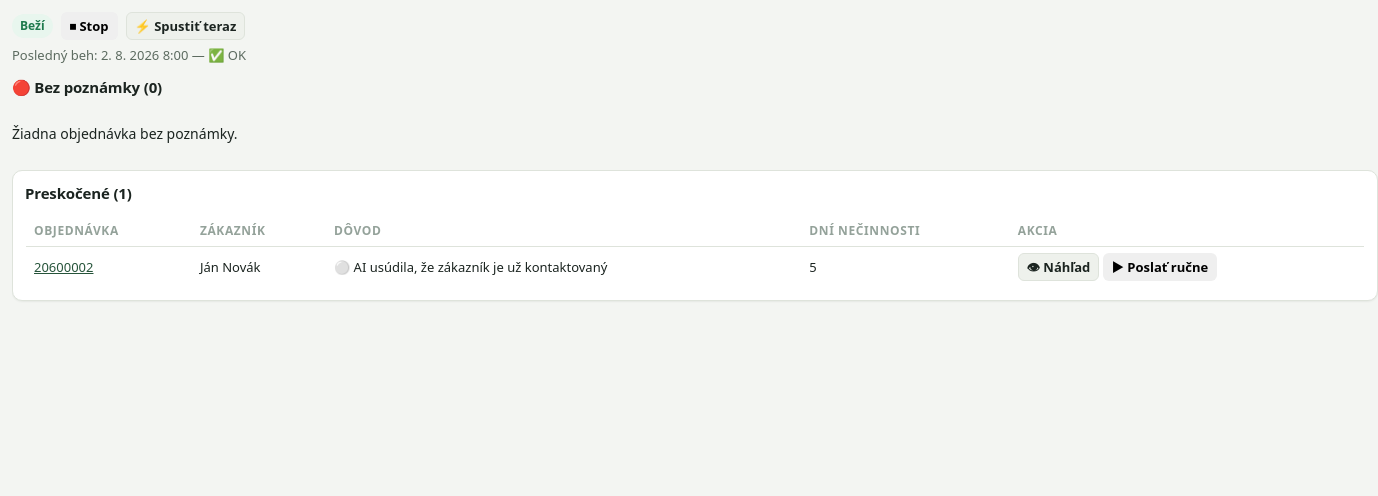
Scenario: preskočený riadok (AI kontaktovaný) má náhľad a klik zobrazí presne to, čo by odišlo
Click the button "👁 Náhľad": (1059, 267) [1018,253,1099,281]
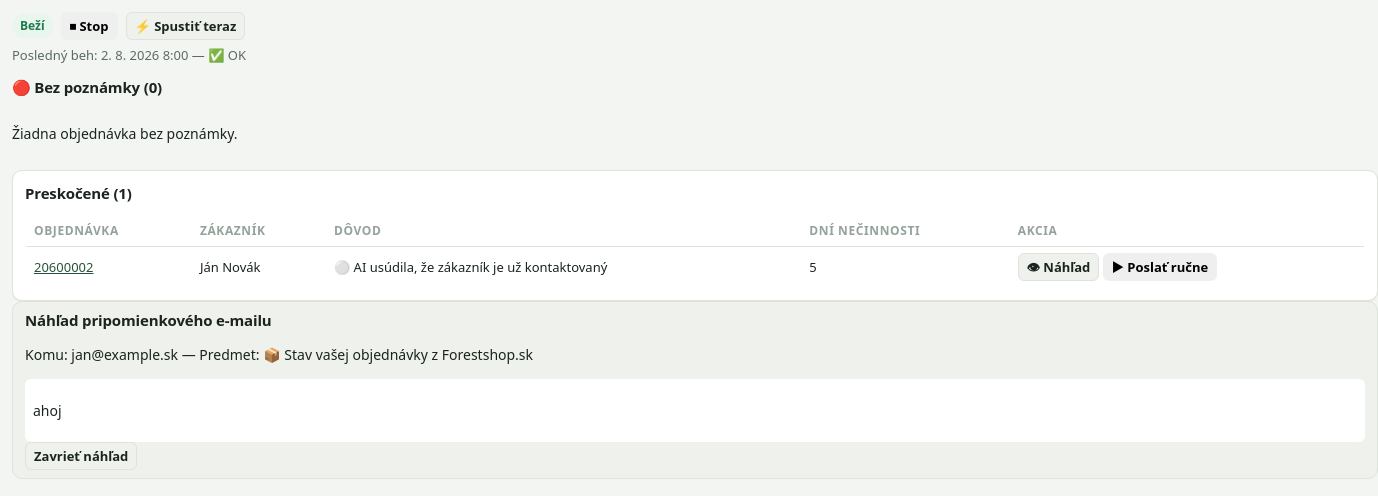
expect the element with test id "order-reminder-preview" shows "jan@example.sk": met, box [71,345,178,364]
